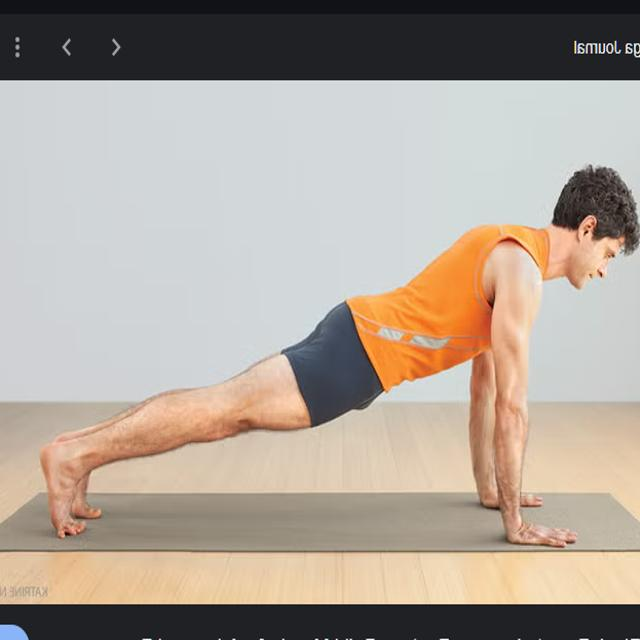Plank_Pose: (17, 164, 640, 556)
